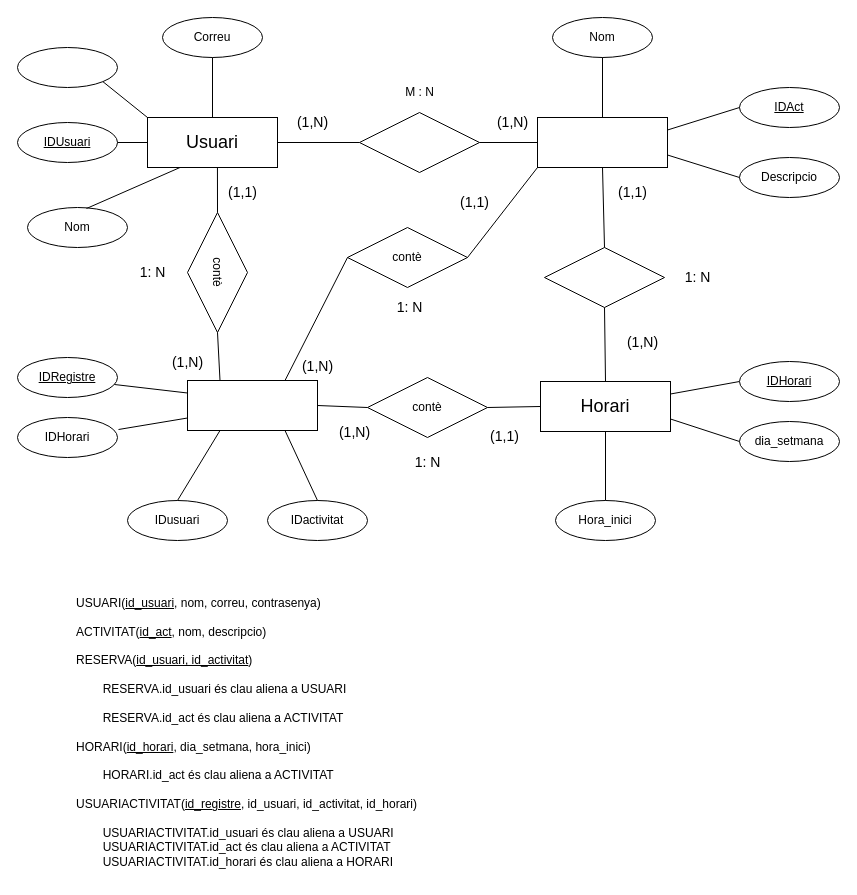
Some shapes in this 857 by 895 pixel diagram are drawn without their labels. Each missing label, with the centre of its shape:
"Activitat" goes at (602,142).
"Contrasenya" goes at (67,67).
"reserva" goes at (419,142).
"té" goes at (604,277).
"UsuariActivitat" goes at (252,405).
